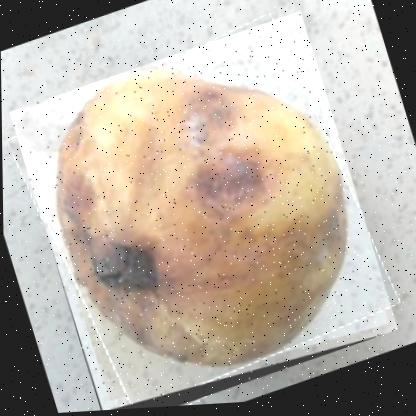guava_rotten: (6, 11, 398, 415)
